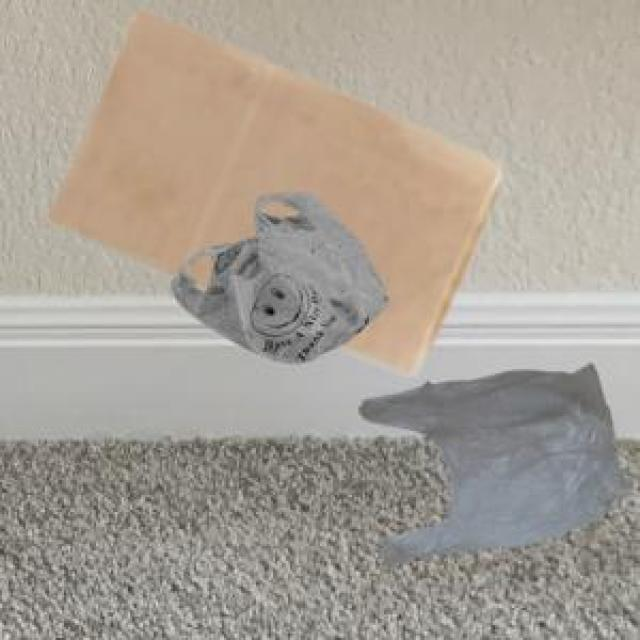paper: (45, 6, 495, 369)
